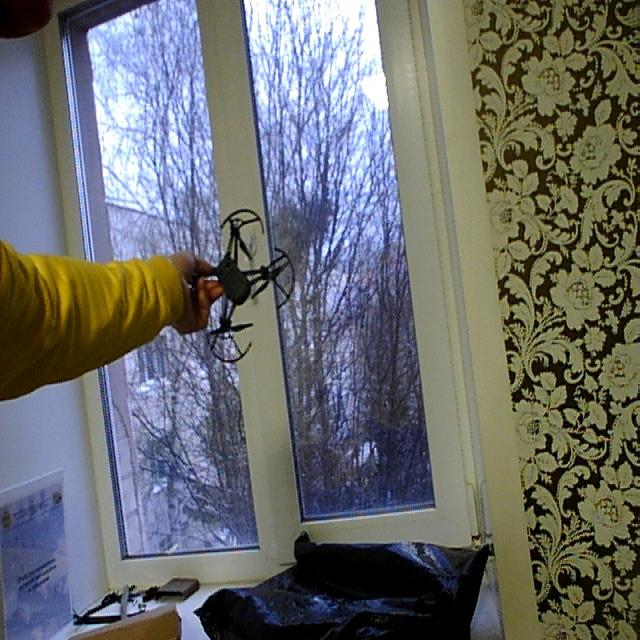drone: (173, 202, 298, 370)
